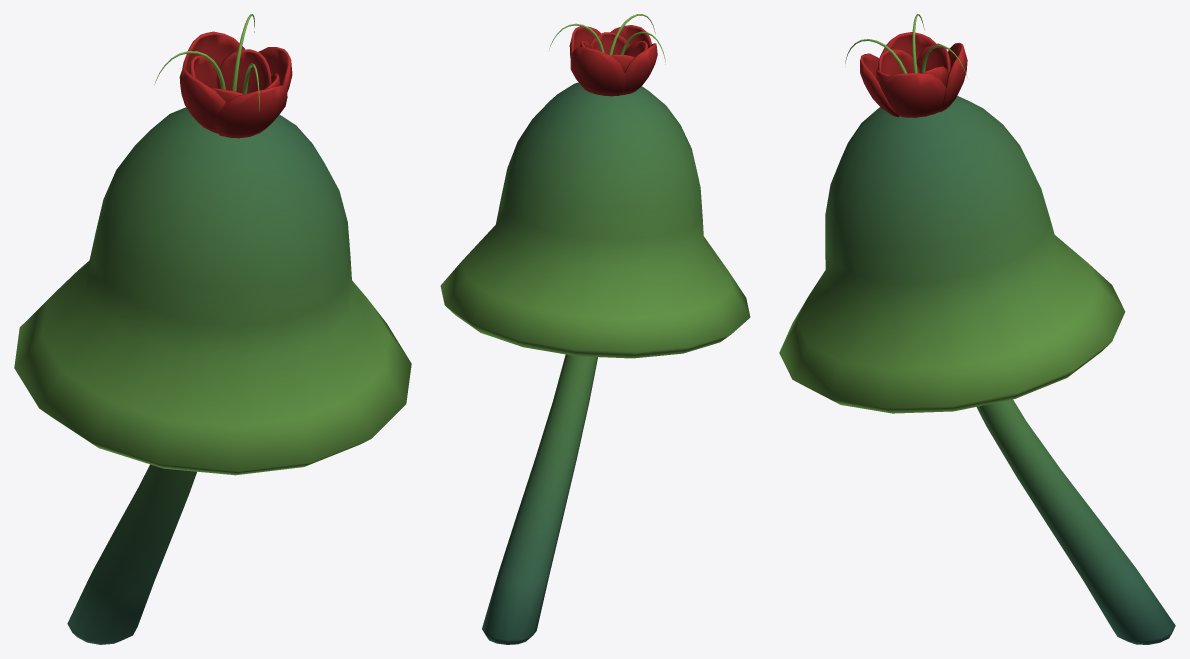
File: Fungus-3-1.fbx
The picture shows the model from 3 angles, left to right: view 1: azimuth 30°, elevation 25°; view 2: azimuth 150°, elevation 25°; view 3: azimuth 270°, elevation 25°; orthographic projection. The views are drawn at different scales.
Visible parts, largest first — view 1: Fungus-3-1; view 2: Fungus-3-1; view 3: Fungus-3-1.
Boxes of the visible parts, <box> form: Fungus-3-1: <box>14,14,411,644</box>; Fungus-3-1: <box>440,14,750,644</box>; Fungus-3-1: <box>779,14,1175,644</box>.
Size of the model in its own units: 24.36 by 46.62 by 27.67.
